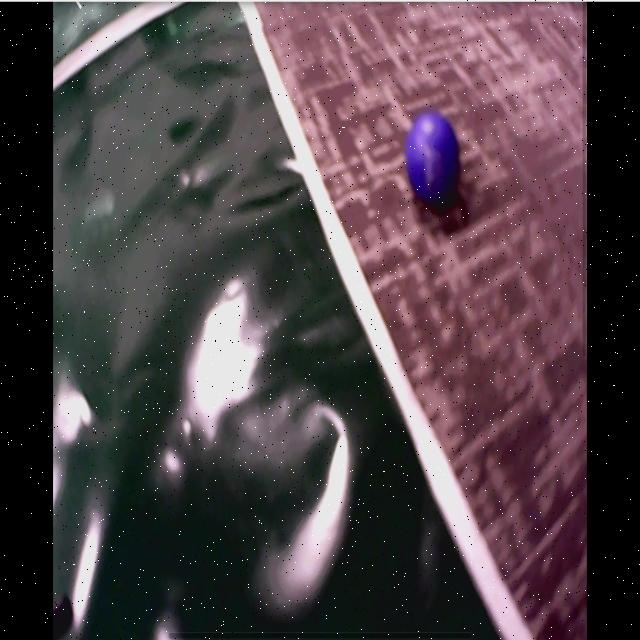ball: (408, 109, 464, 211)
